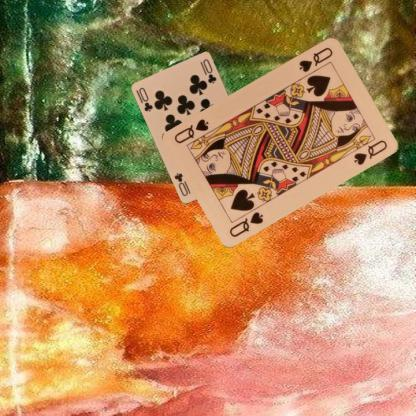10c: (136, 85, 154, 113)
Qs: (226, 208, 264, 240), (297, 44, 334, 73)
